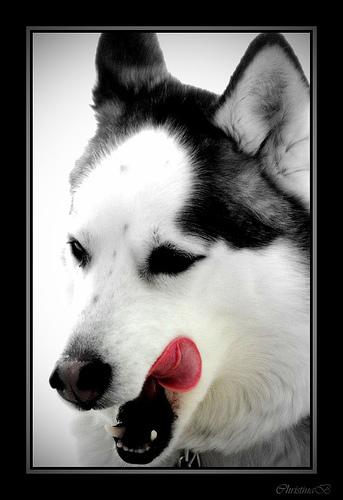dog: (33, 32, 314, 467)
